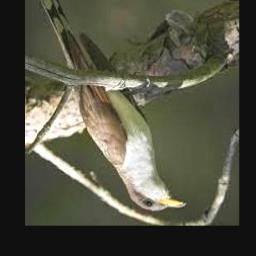Cuckoo: (33, 0, 187, 211)
